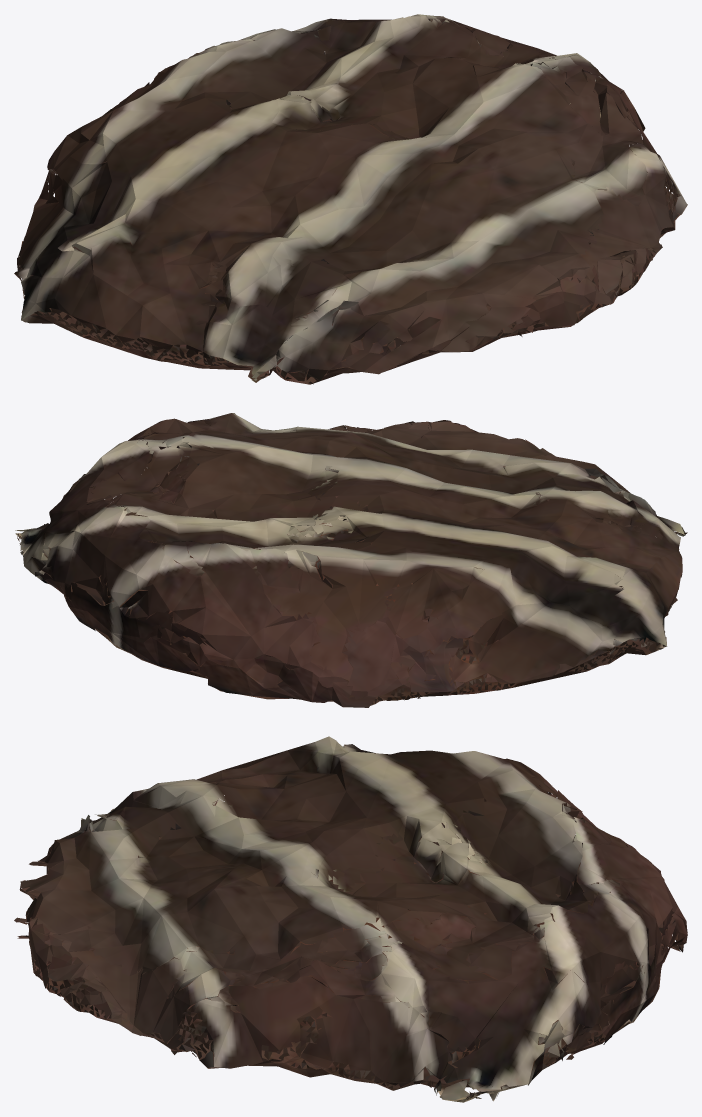
File: death-by-chocolate-peppermint-cookie.gltf
3 renders of one model, top to bottom at view 1: azimuth 30°, elevation 25°; view 2: azimuth 150°, elevation 25°; view 3: azimuth 270°, elevation 25°, orthographic. The views are drawn at different scales.
Visible parts, largest first — view 1: model_New Qlone_20211029_155437272; view 2: model_New Qlone_20211029_155437272; view 3: model_New Qlone_20211029_155437272.
Boxes of the visible parts, box(x1,y1,x2,y2) form: model_New Qlone_20211029_155437272: box(14, 14, 687, 384); model_New Qlone_20211029_155437272: box(15, 413, 687, 707); model_New Qlone_20211029_155437272: box(14, 736, 687, 1102).
Size of the model in its own units: 8.36 by 1.5 by 7.22.
Materials: 1 (1 with a texture image).
